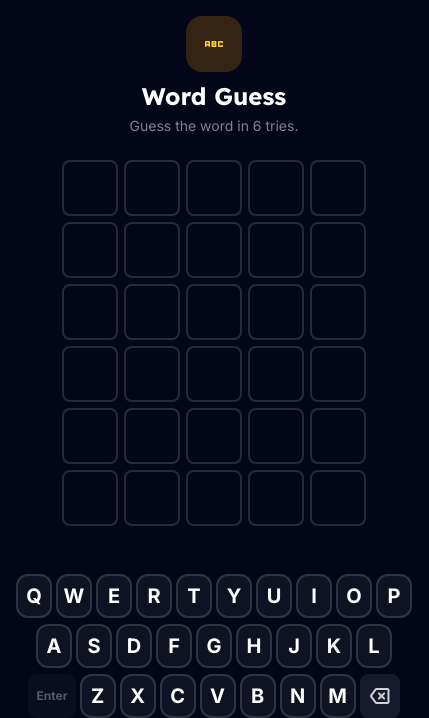
Test: WordGuessPage on-screen keyboard › builds up the current guess as on-screen letters are clicked
(page scrolled)
Click the button "C" at (178, 696), box [160, 674, 196, 717]
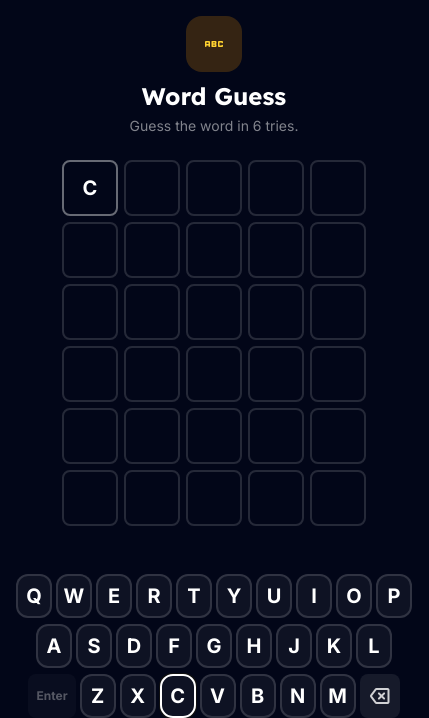
Click the button "R" at (154, 596), box [136, 574, 172, 618]
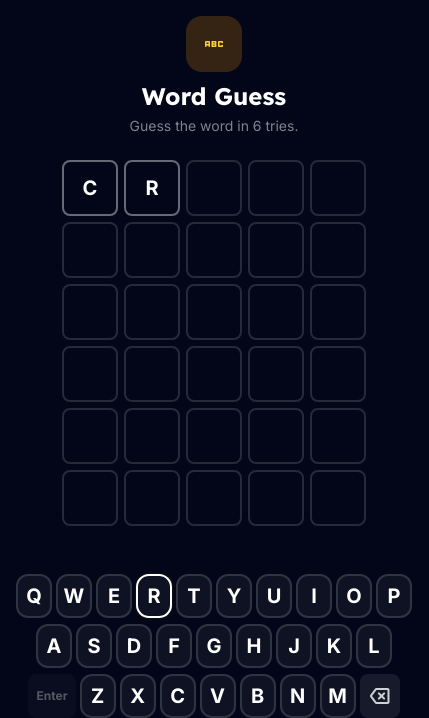
Click the button "A" at (54, 646), box [36, 624, 72, 668]
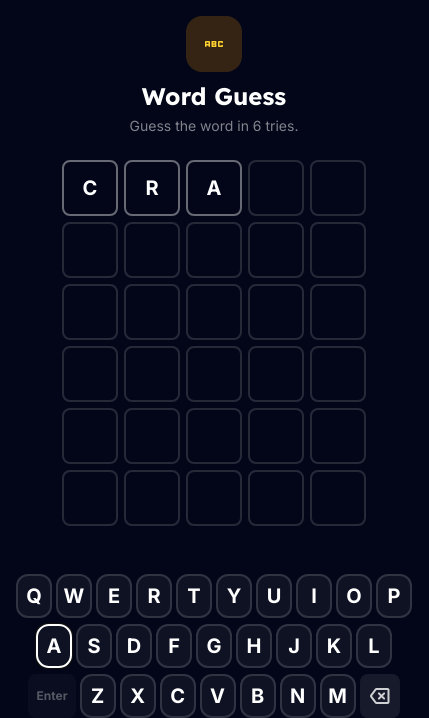
Click the button "N" at (298, 696), box [280, 674, 316, 717]
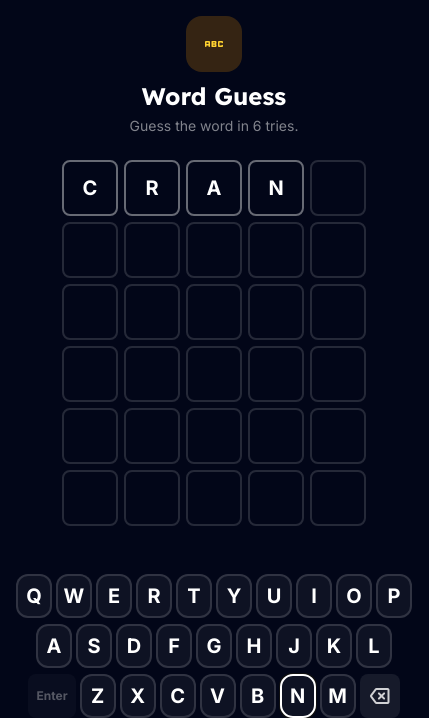
Click the button "E" at (114, 596), box [96, 574, 132, 618]
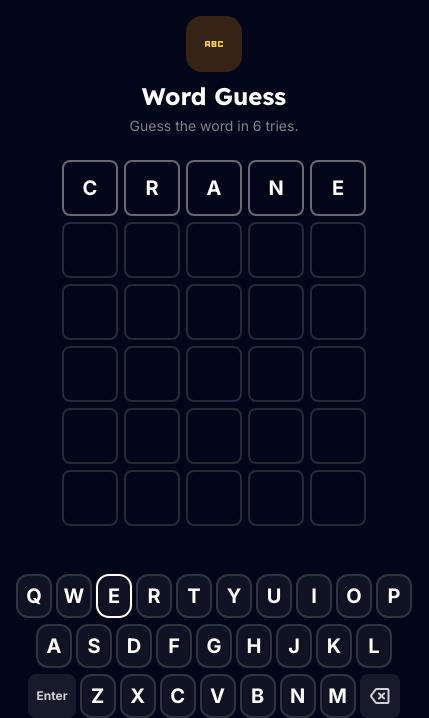
Now the element named "Current guess: CRANE" is shown, box [62, 160, 366, 216]
